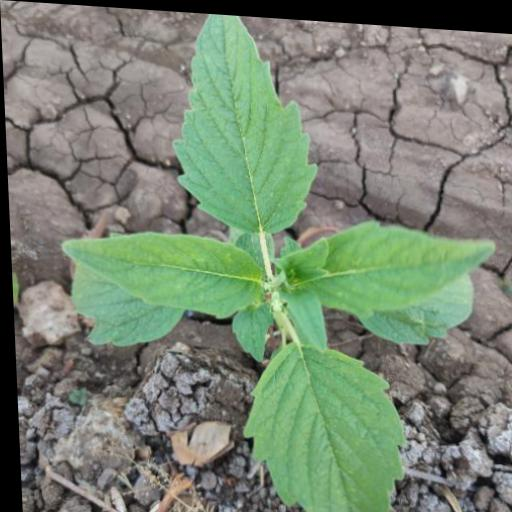crop: (47, 4, 500, 512)
